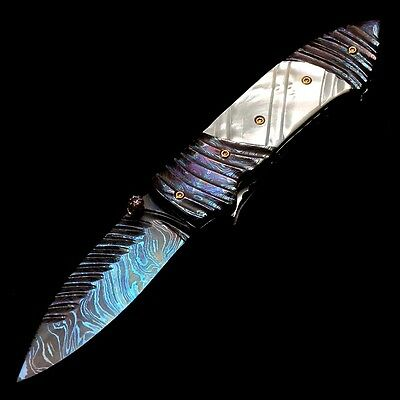knief: (30, 23, 378, 392)
